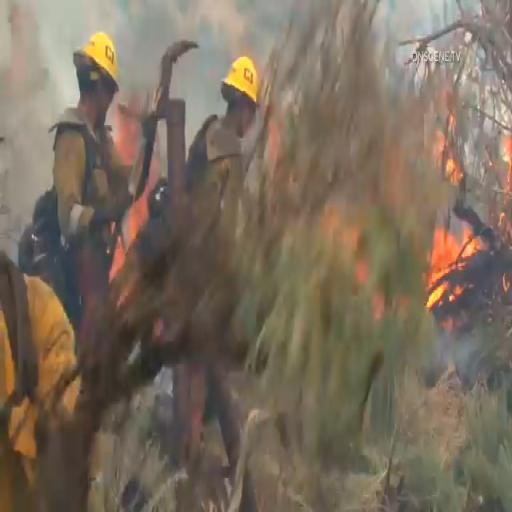fire: (436, 210, 483, 296)
